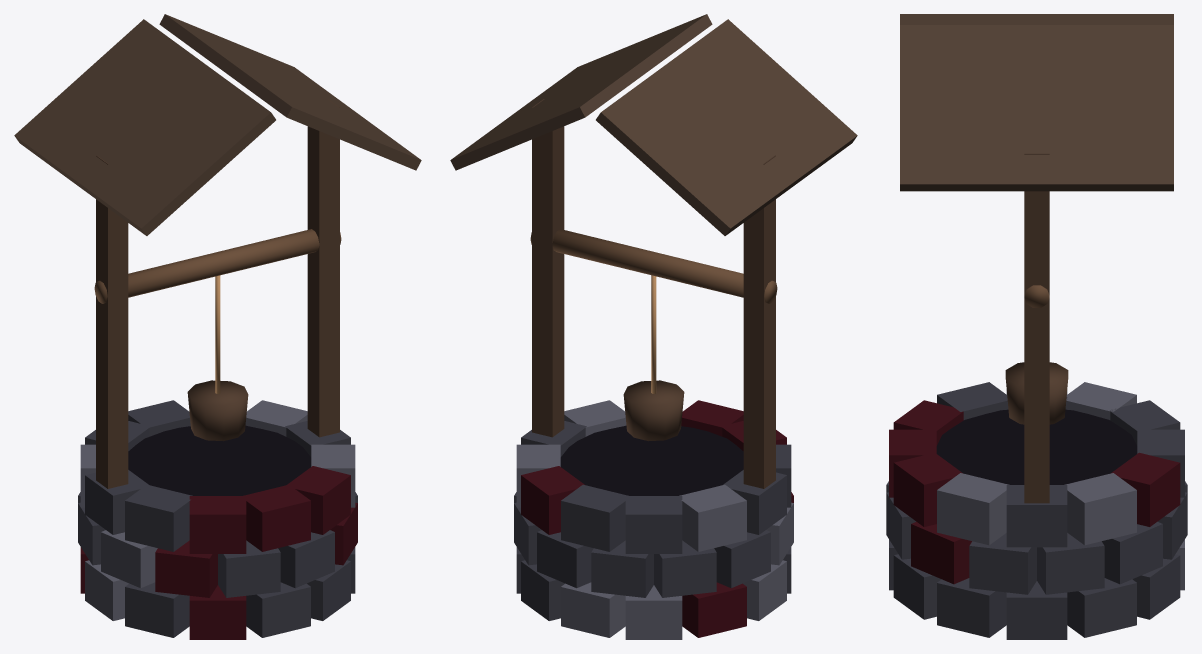
Rendered from well.glb.
3 views of the same model, side by side, from view 1: azimuth 30°, elevation 25°; view 2: azimuth 150°, elevation 25°; view 3: azimuth 270°, elevation 25° (orthographic). The views are drawn at different scales.
Parts seen in each view (by area): view 1: well; view 2: well; view 3: well.
Boxes of the visible parts, x1,y1,x2,y2 form: well: (14,14,421,639); well: (450,14,857,639); well: (886,14,1187,639).
Size of the model in its own units: 0.9535 by 1.69 by 0.8254.
